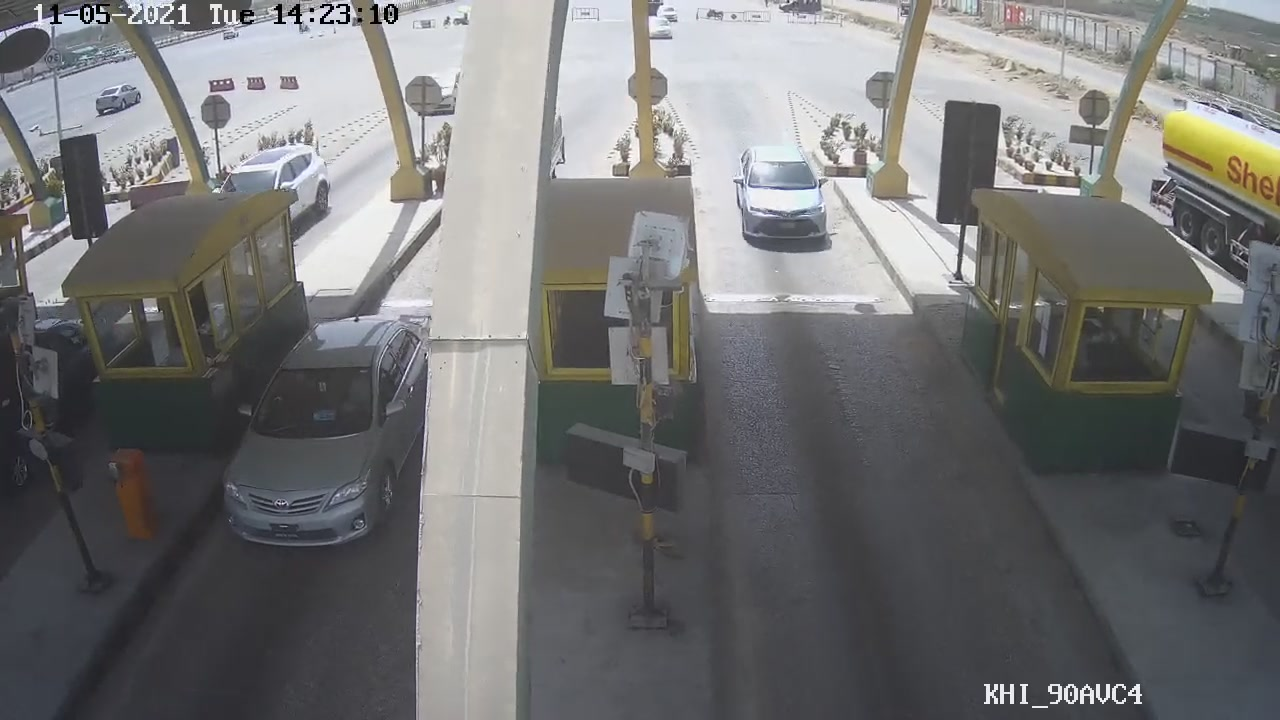F1: (732, 142, 837, 254)
